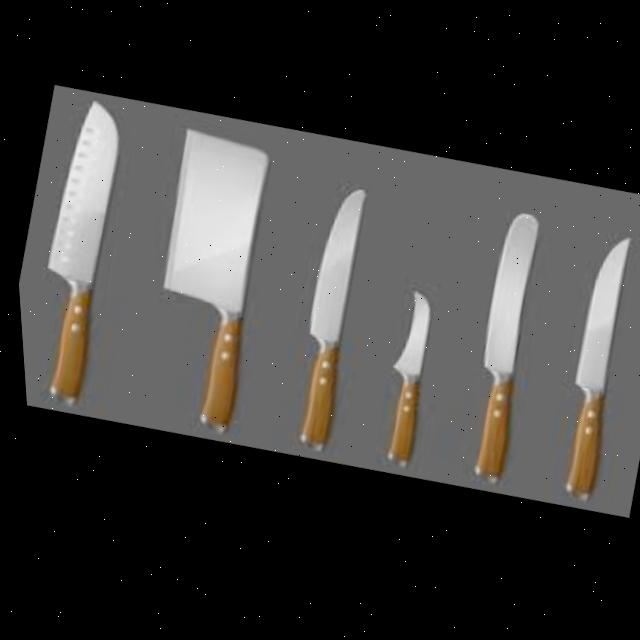Knife: (115, 125, 295, 440), (5, 94, 147, 411), (439, 213, 561, 493), (268, 185, 385, 458), (533, 237, 640, 510), (360, 290, 445, 474)
